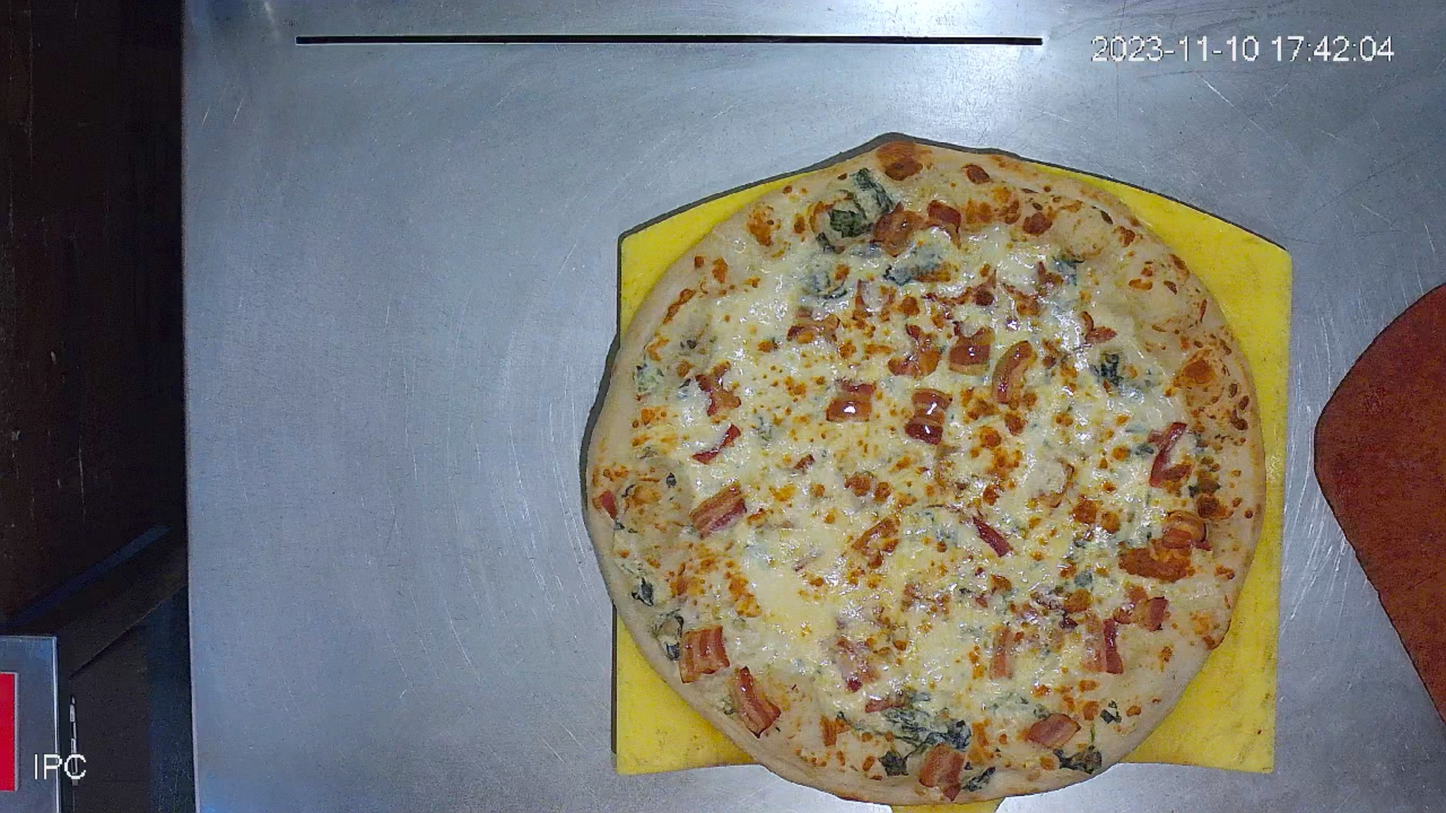pepporoni: (580, 131, 1268, 807)
